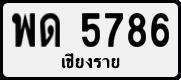letters: (10, 11, 37, 48), (39, 12, 62, 48), (80, 11, 101, 48), (103, 11, 124, 48), (149, 12, 170, 49), (127, 12, 147, 47)
province: (59, 51, 121, 70)
